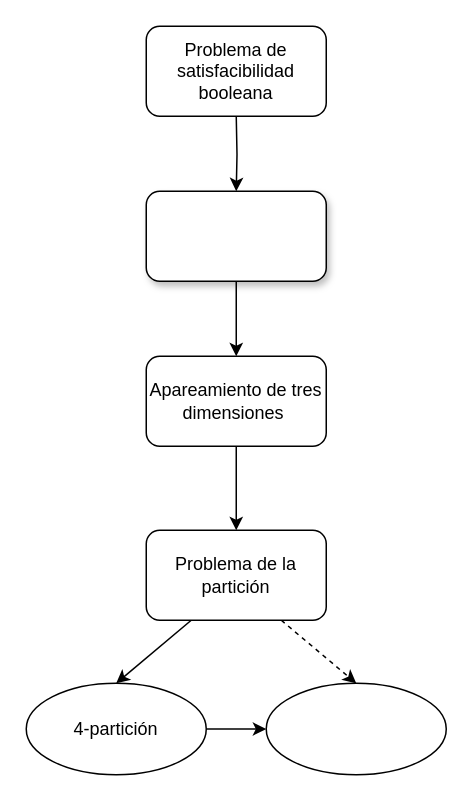
Some shapes in this 473 by 801 pixel diagram are drawn without their labels. The shapes that lost their labels are listed below. From the top down, each one's centre as x and y in pixels, then its label:
point (237, 238): 3-SAT
point (355, 728): 3-partición
